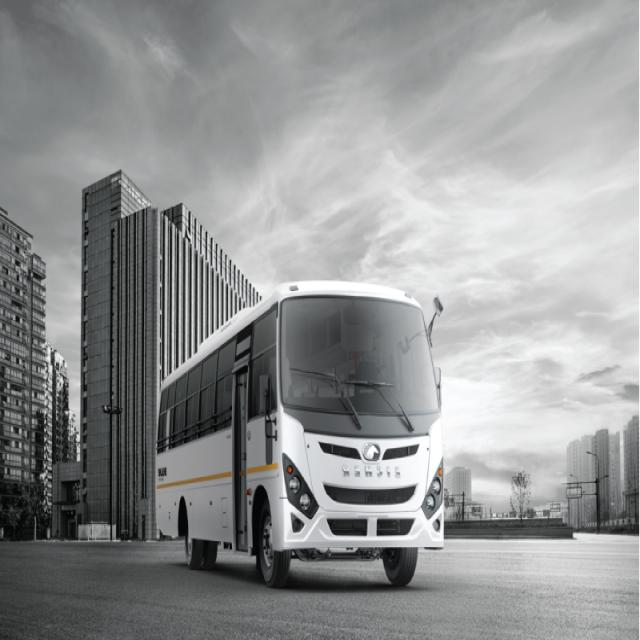bus: (155, 283, 445, 586)
